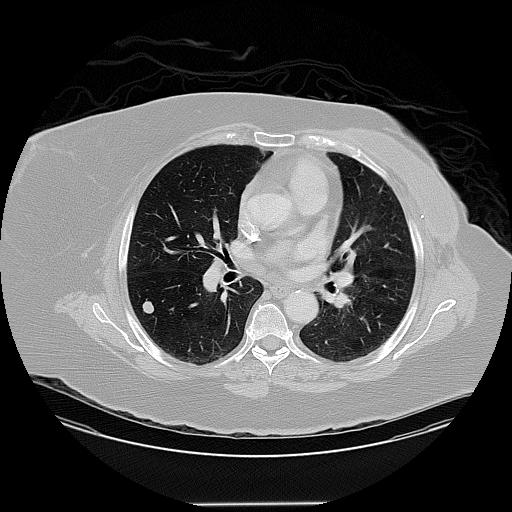nodule: (139, 299, 157, 317)
